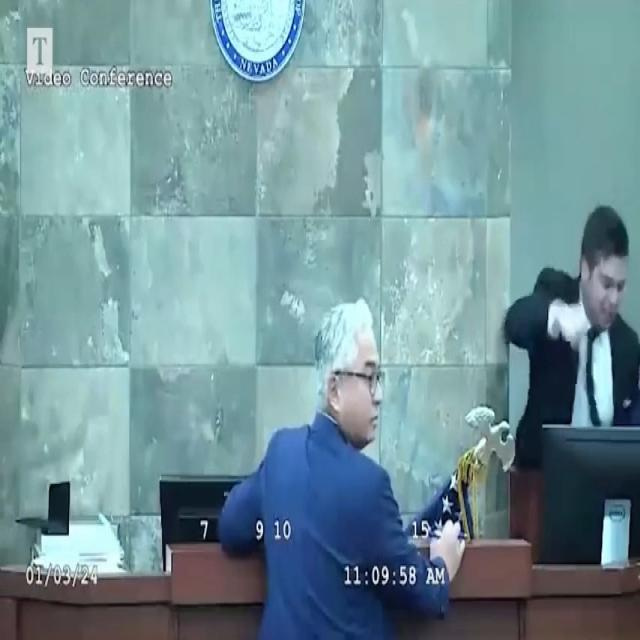fight: (490, 190, 640, 553)
non-fight: (210, 277, 474, 640)
